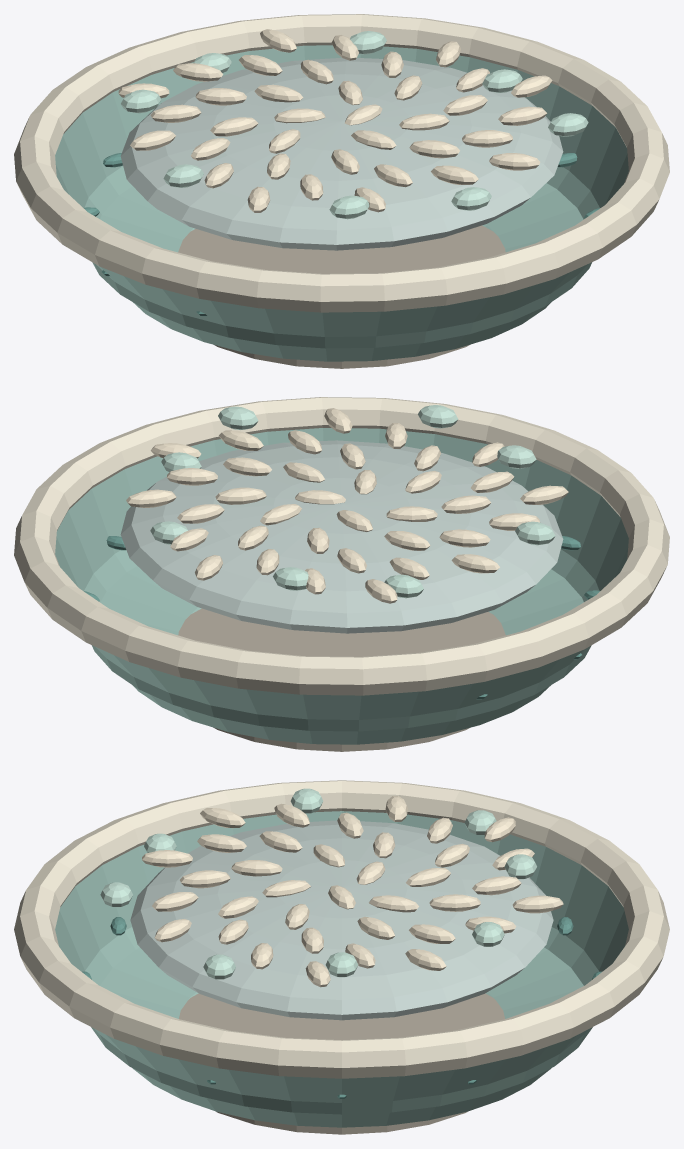
The model's file is washed_rice.glb.
3 renders of one model, top to bottom at view 1: azimuth 30°, elevation 25°; view 2: azimuth 150°, elevation 25°; view 3: azimuth 270°, elevation 25°, orthographic.
Visible parts, largest first — view 1: rice_celadon_colander_rolled_lip, rice_shallow_wet_grains, rice_celadon_colander_hollow_profile, rice_celadon_colander_foot_ring, rice_water_bead_4, rice_water_bead_2, rice_water_bead_5, rice_water_bead_7, rice_water_bead_1, rice_grain_18, rice_grain_14, rice_grain_31 (+22 smaller); view 2: rice_celadon_colander_rolled_lip, rice_shallow_wet_grains, rice_celadon_colander_hollow_profile, rice_celadon_colander_foot_ring, rice_water_bead_4, rice_water_bead_2, rice_water_bead_5, rice_water_bead_7, rice_grain_21, rice_grain_17, rice_grain_29, rice_grain_8 (+23 smaller); view 3: rice_celadon_colander_rolled_lip, rice_shallow_wet_grains, rice_celadon_colander_hollow_profile, rice_celadon_colander_foot_ring, rice_grain_28, rice_grain_32, rice_grain_11, rice_grain_15, rice_grain_19, rice_grain_20, rice_grain_7, rice_grain_16 (+21 smaller).
Boxes of the visible parts, <box> form: rice_celadon_colander_rolled_lip: <box>14,14,669,312</box>; rice_shallow_wet_grains: <box>120,57,563,250</box>; rice_celadon_colander_hollow_profile: <box>55,45,628,361</box>; rice_celadon_colander_foot_ring: <box>178,225,505,368</box>; rice_water_bead_4: <box>163,164,203,187</box>; rice_water_bead_2: <box>451,187,491,210</box>; rice_water_bead_5: <box>548,113,588,136</box>; rice_water_bead_7: <box>329,195,369,219</box>; rice_water_bead_1: <box>121,89,160,113</box>; rice_grain_18: <box>462,130,512,147</box>; rice_grain_14: <box>195,88,246,105</box>; rice_grain_31: <box>489,153,540,170</box>; rice_celadon_colander_rolled_lip: <box>14,397,669,695</box>; rice_shallow_wet_grains: <box>120,440,563,633</box>; rice_celadon_colander_hollow_profile: <box>55,428,628,744</box>; rice_celadon_colander_foot_ring: <box>178,608,505,751</box>; rice_water_bead_4: <box>515,521,555,545</box>; rice_water_bead_2: <box>418,405,458,428</box>; rice_water_bead_5: <box>218,406,258,429</box>; rice_water_bead_7: <box>497,445,536,468</box>; rice_grain_21: <box>167,468,217,485</box>; rice_grain_17: <box>439,529,490,547</box>; rice_grain_29: <box>126,489,176,507</box>; rice_grain_8: <box>215,487,266,504</box>; rice_celadon_colander_rolled_lip: <box>14,780,669,1078</box>; rice_shallow_wet_grains: <box>130,820,553,1020</box>; rice_celadon_colander_hollow_profile: <box>55,811,628,1127</box>; rice_celadon_colander_foot_ring: <box>179,993,504,1134</box>; rice_grain_28: <box>142,850,192,867</box>; rice_grain_32: <box>512,895,563,913</box>; rice_grain_11: <box>429,894,480,911</box>; rice_grain_15: <box>180,870,230,888</box>; rice_grain_19: <box>472,876,521,895</box>; rice_grain_20: <box>197,834,246,852</box>; rice_grain_7: <box>231,860,282,876</box>; rice_grain_16: <box>409,924,455,943</box>.
Size of the model in its own units: 0.6385 by 0.197 by 0.6385.
